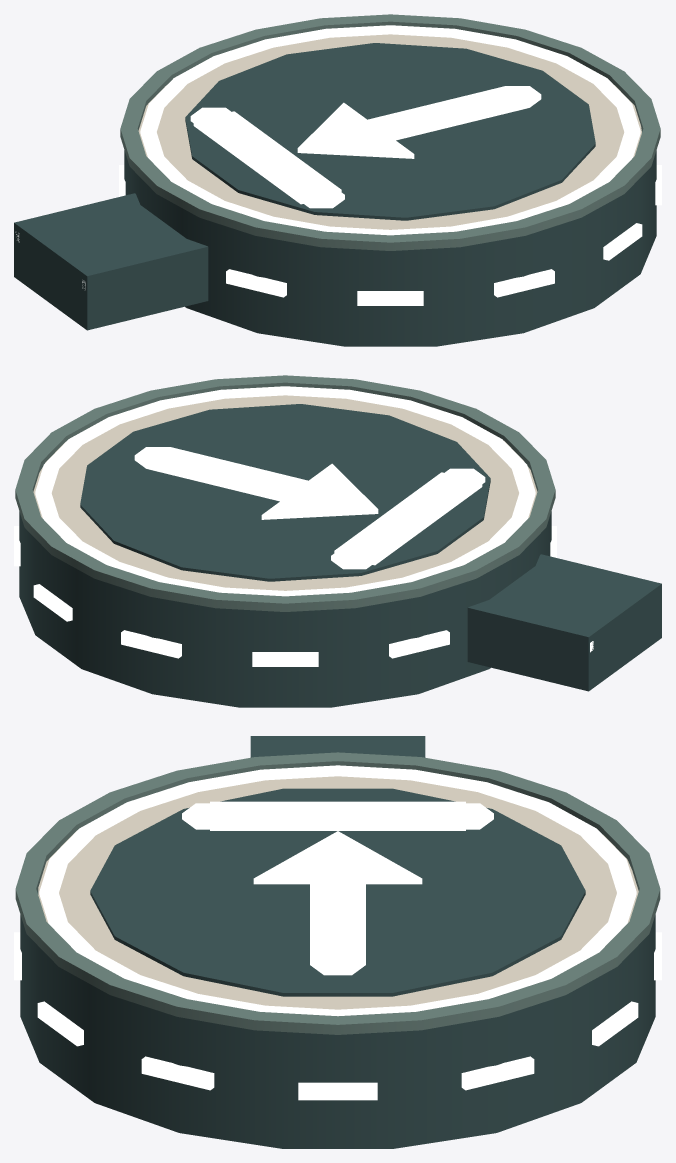
The model's file is Relay_Button_Retract_v2_lab.glb.
3 renders of one model, top to bottom at view 1: azimuth 30°, elevation 25°; view 2: azimuth 150°, elevation 25°; view 3: azimuth 270°, elevation 25°, orthographic. The views are drawn at different scales.
Parts seen in each view (by area): view 1: Relay_Button_Retract_v2, Glyph, Strut; view 2: Relay_Button_Retract_v2, Glyph, Strut; view 3: Relay_Button_Retract_v2, Glyph, Strut.
Boxes of the visible parts, x1,y1,x2,y2 form: Relay_Button_Retract_v2: (119, 14, 661, 346); Glyph: (185, 43, 595, 220); Strut: (14, 193, 208, 330); Relay_Button_Retract_v2: (14, 375, 556, 707); Glyph: (80, 404, 490, 581); Strut: (467, 554, 661, 691); Relay_Button_Retract_v2: (14, 752, 661, 1148); Glyph: (90, 788, 585, 996); Strut: (250, 736, 425, 757).
Bounding box in the file's own units: 4.99 × 1.61 × 4.08.
